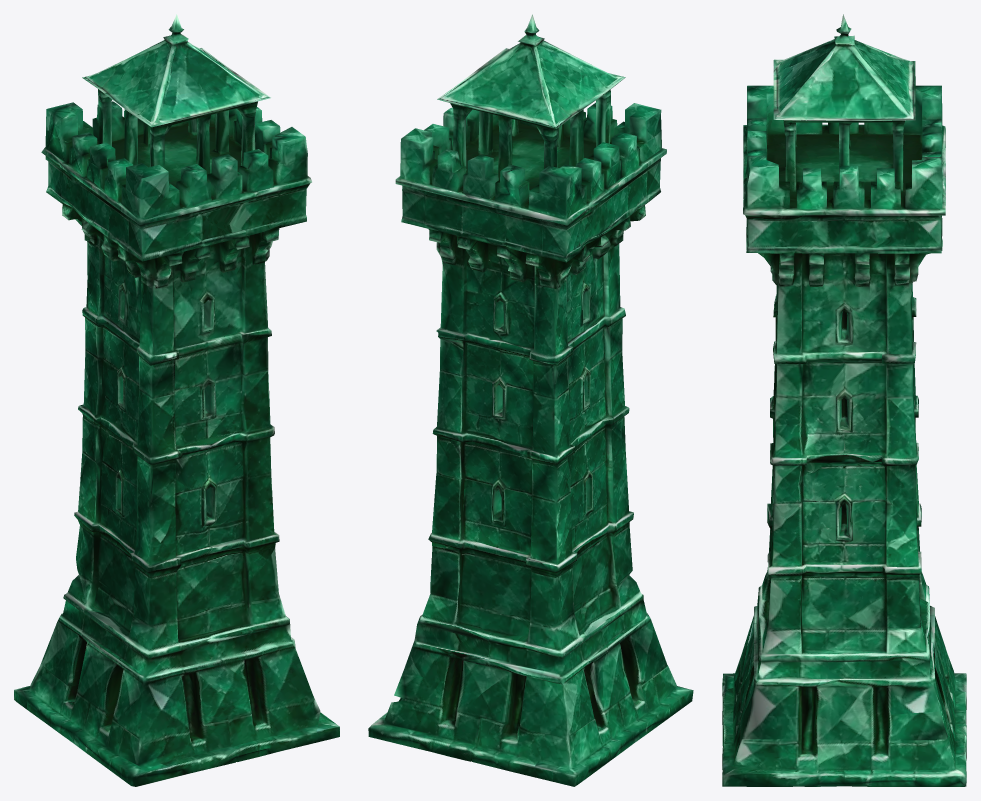
File: castle_tower_tall_diamond_green.glb
The picture shows the model from 3 angles, left to right: view 1: azimuth 30°, elevation 25°; view 2: azimuth 150°, elevation 25°; view 3: azimuth 270°, elevation 25°; orthographic projection. The views are drawn at different scales.
Visible parts, largest first — view 1: tripo_node_10af44de-5a12-49a2-863b-1856f76e21d5; view 2: tripo_node_10af44de-5a12-49a2-863b-1856f76e21d5; view 3: tripo_node_10af44de-5a12-49a2-863b-1856f76e21d5.
Boxes of the visible parts, <box> form: tripo_node_10af44de-5a12-49a2-863b-1856f76e21d5: <box>14,14,339,786</box>; tripo_node_10af44de-5a12-49a2-863b-1856f76e21d5: <box>368,14,693,786</box>; tripo_node_10af44de-5a12-49a2-863b-1856f76e21d5: <box>722,14,966,786</box>.
Size of the model in its own units: 0.2999 by 0.9782 by 0.3004.
Materials: 1 (1 with a texture image).
